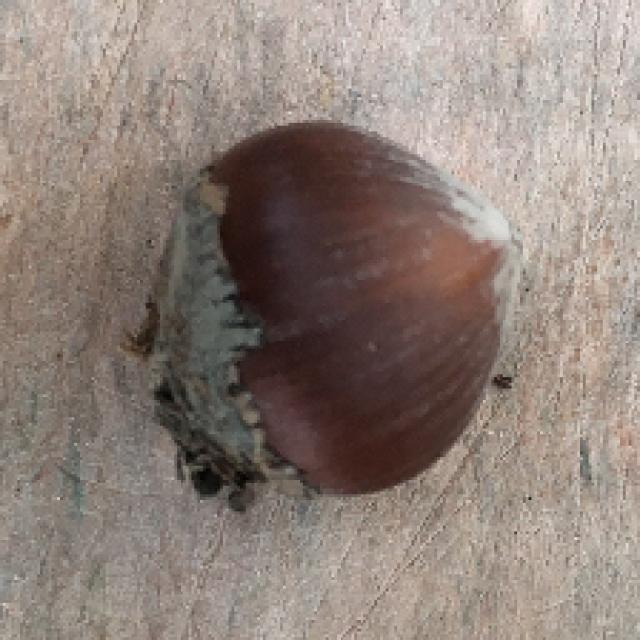damagedHazelnut: (138, 113, 532, 501)
